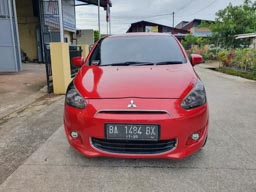plat: (106, 123, 157, 135)
